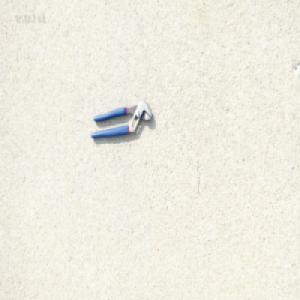Pliers: (89, 99, 153, 140)
